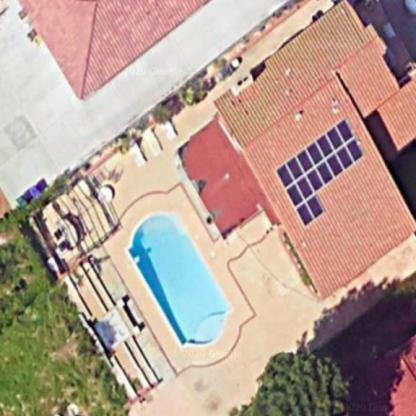solar_panel: (254, 104, 367, 224)
swimming_pool: (112, 192, 236, 354)
